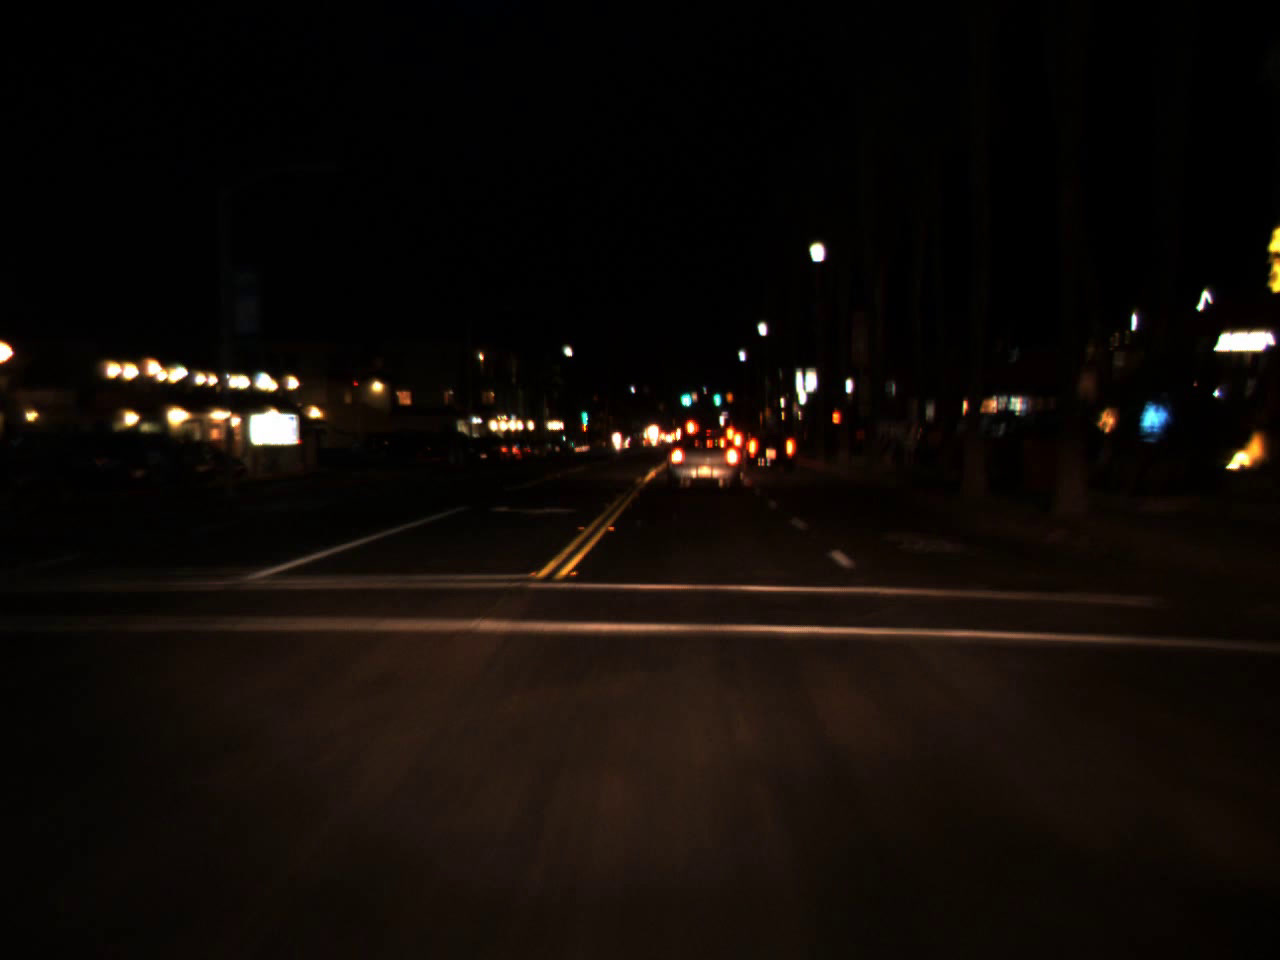go: (677, 381, 693, 408), (579, 396, 588, 429), (711, 381, 721, 408)
